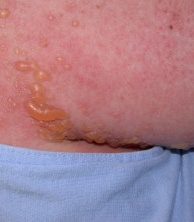SJS-TEN: (0, 0, 194, 174)
